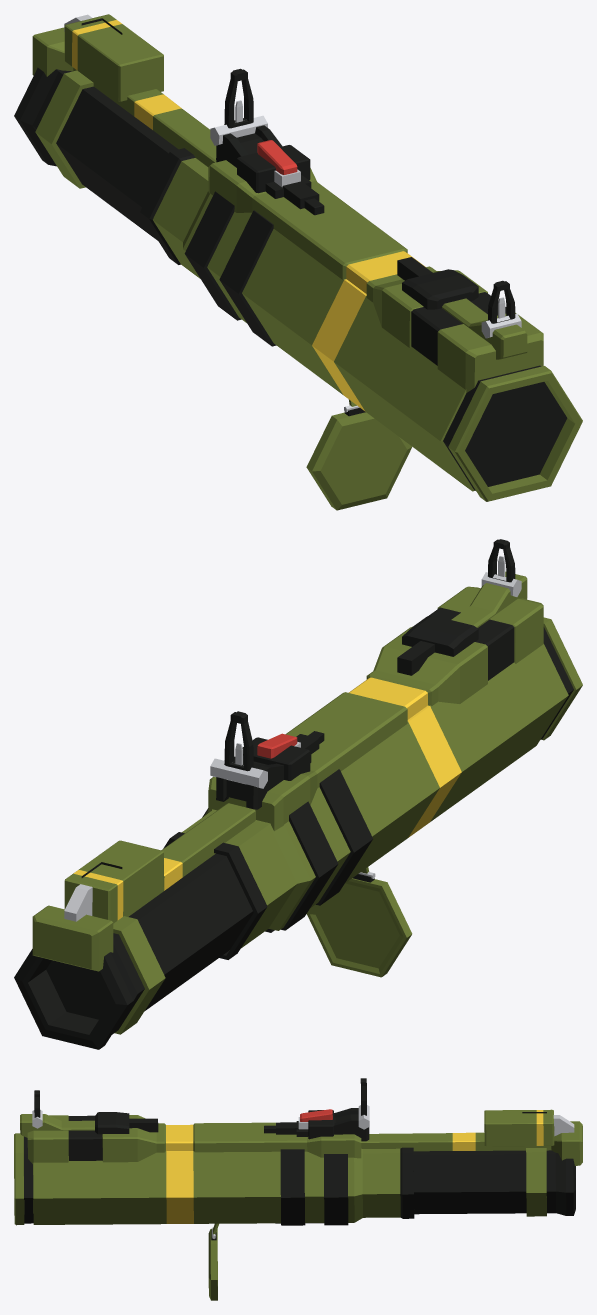
The model's file is RocketLauncher.fbx.
The picture shows the model from 3 angles, top to bottom: view 1: azimuth 30°, elevation 25°; view 2: azimuth 150°, elevation 25°; view 3: azimuth 270°, elevation 25°; orthographic projection. The views are drawn at different scales.
Parts seen in each view (by area): view 1: RocketLauncher; view 2: RocketLauncher; view 3: RocketLauncher.
Part boxes in pixels (x1,y1,x2,y2): RocketLauncher: [14, 14, 582, 510]; RocketLauncher: [14, 539, 582, 1049]; RocketLauncher: [14, 1078, 582, 1300].
Bounding box in the file's own units: 68.22 × 166 × 401.
